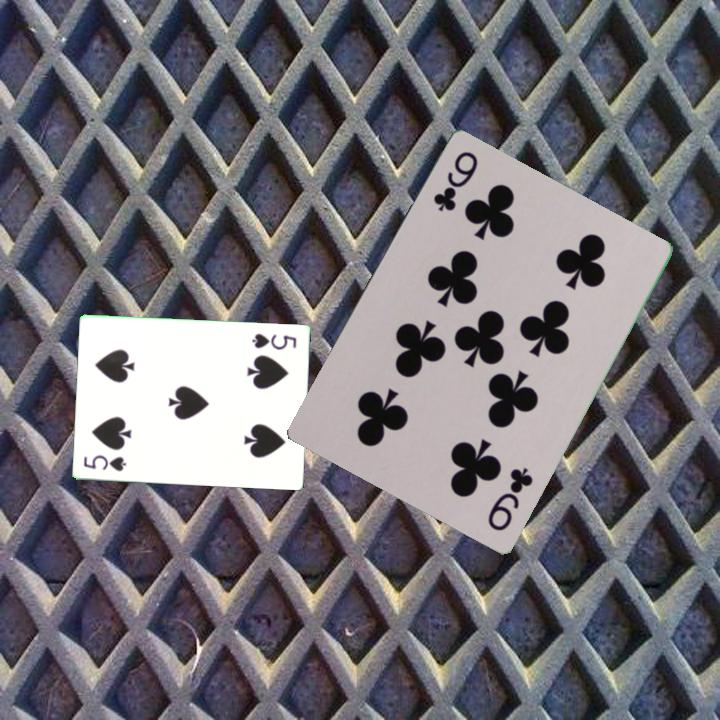5s: (249, 330, 300, 353), (80, 451, 129, 474)
9c: (484, 464, 537, 535), (430, 148, 482, 215)
